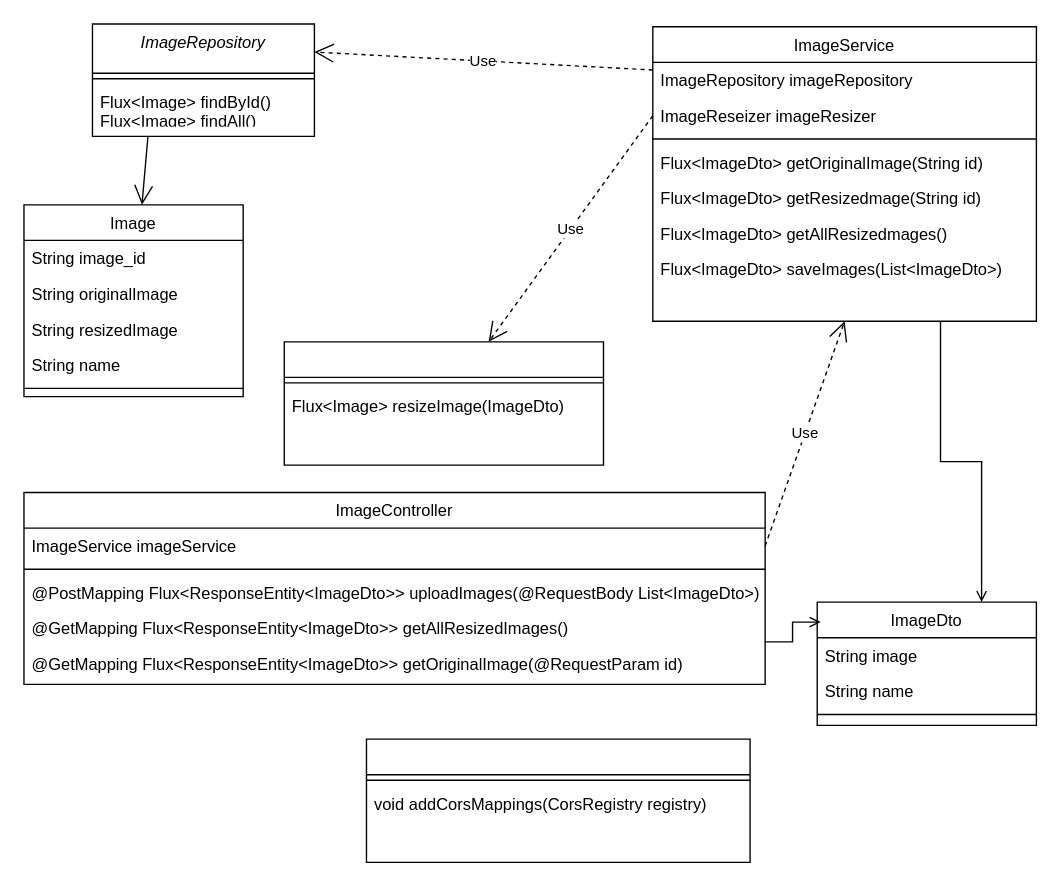
The diagram is 1060 pixels wide and 886 high, and some of its shapes have lost their labels. The shapes that lost their labels are listed below. From the top down, each one's box as (x1, y1, x2, y2) in pixels, then its label:
(283, 340, 603, 465): ImageResizer
(365, 738, 750, 862): WebConfig
